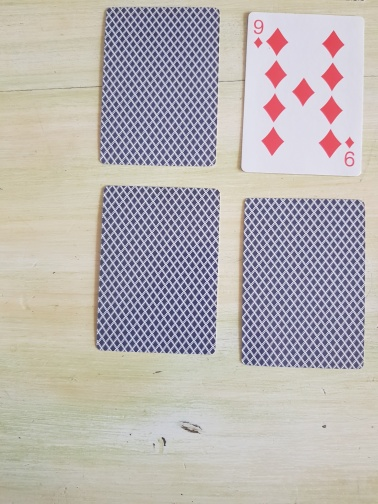nine: (241, 11, 366, 178)
